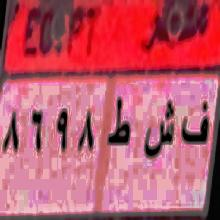6: (28, 101, 48, 160)
8: (76, 107, 98, 156), (2, 102, 20, 158)
9: (53, 104, 72, 156)
Taa: (108, 92, 133, 148)
faa: (179, 96, 211, 147)
sheen: (142, 94, 176, 165)
